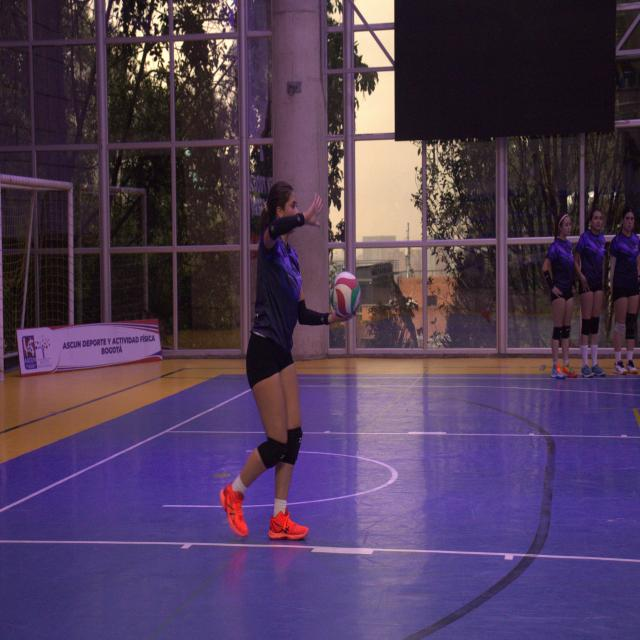volleyball: (328, 269, 362, 318)
